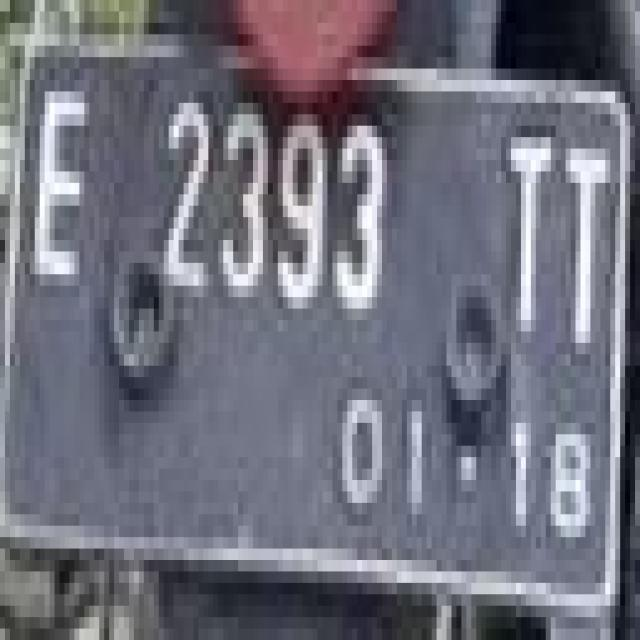2: (164, 97, 214, 292)
3: (332, 97, 387, 314), (220, 97, 270, 314)
9: (268, 97, 332, 326)
E: (34, 80, 90, 297)
T: (556, 114, 610, 354), (501, 120, 556, 337)
